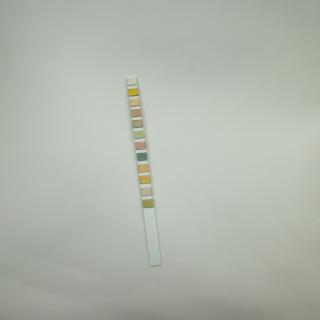mark: (135, 142, 146, 150), (144, 200, 154, 208), (136, 152, 146, 160), (134, 130, 144, 138), (132, 120, 142, 128), (130, 109, 140, 117), (130, 98, 140, 106), (128, 88, 138, 96), (127, 78, 137, 86), (139, 176, 150, 183), (142, 188, 152, 195), (138, 165, 148, 172)
